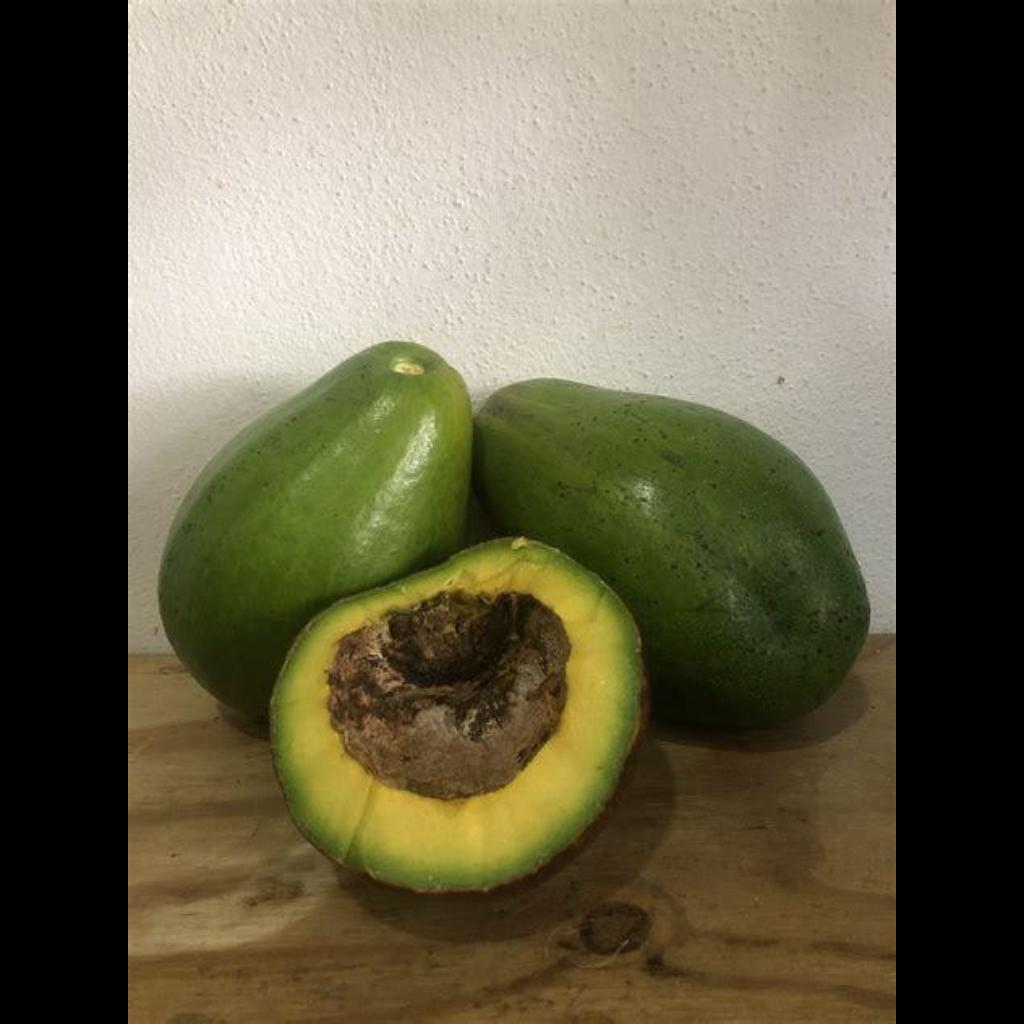Healthy: (488, 357, 878, 689), (180, 369, 438, 567)
